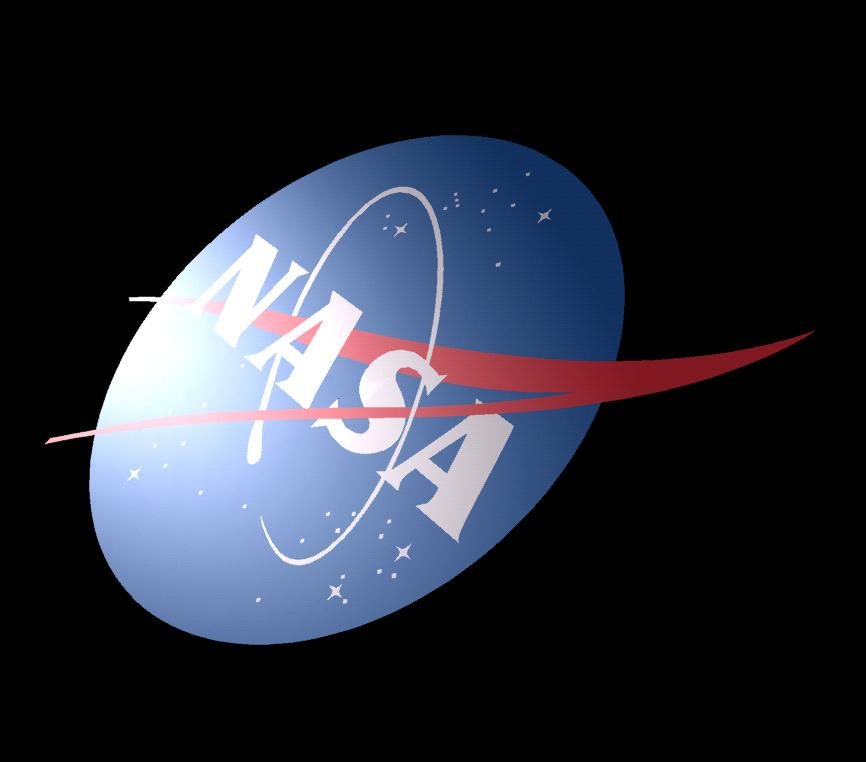NASA: (27, 138, 827, 644)
